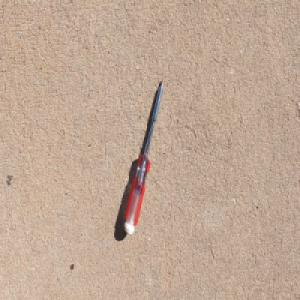Screwdriver: (123, 75, 165, 236)
